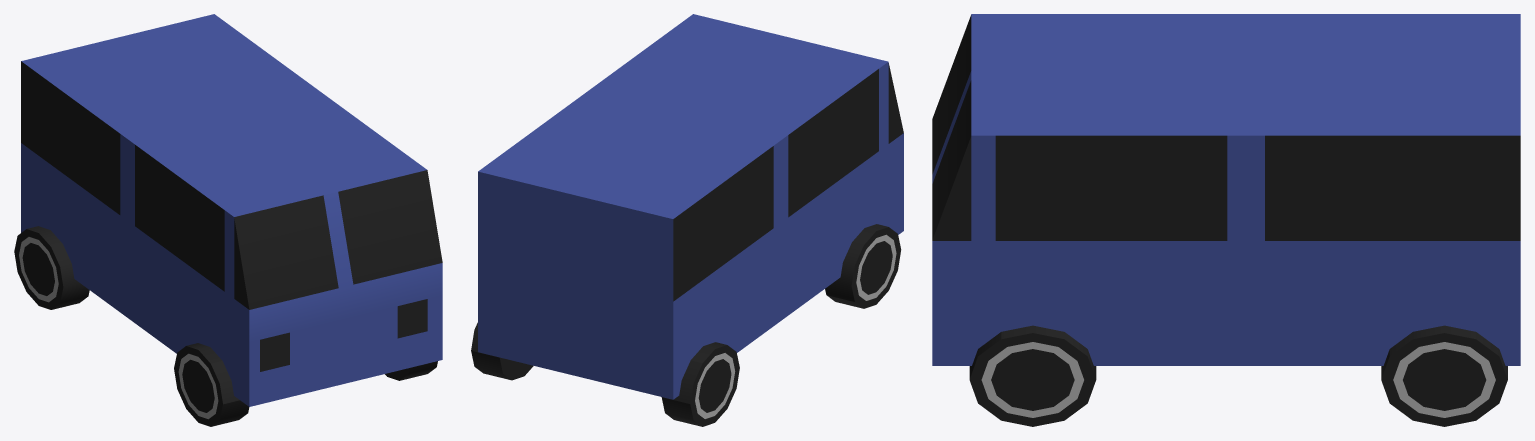
Rendered from car1.fbx.
3 renders of one model, left to right at view 1: azimuth 30°, elevation 25°; view 2: azimuth 150°, elevation 25°; view 3: azimuth 270°, elevation 25°, orthographic. The views are drawn at different scales.
Parts seen in each view (by area): view 1: Cube.003; view 2: Cube.003; view 3: Cube.003.
Part boxes in pixels (box(x1,y1,x2,y2)): Cube.003: box(14, 14, 442, 426); Cube.003: box(471, 14, 903, 426); Cube.003: box(932, 14, 1520, 426).
Size of the model in its own units: 73.11 by 70.93 by 133.
